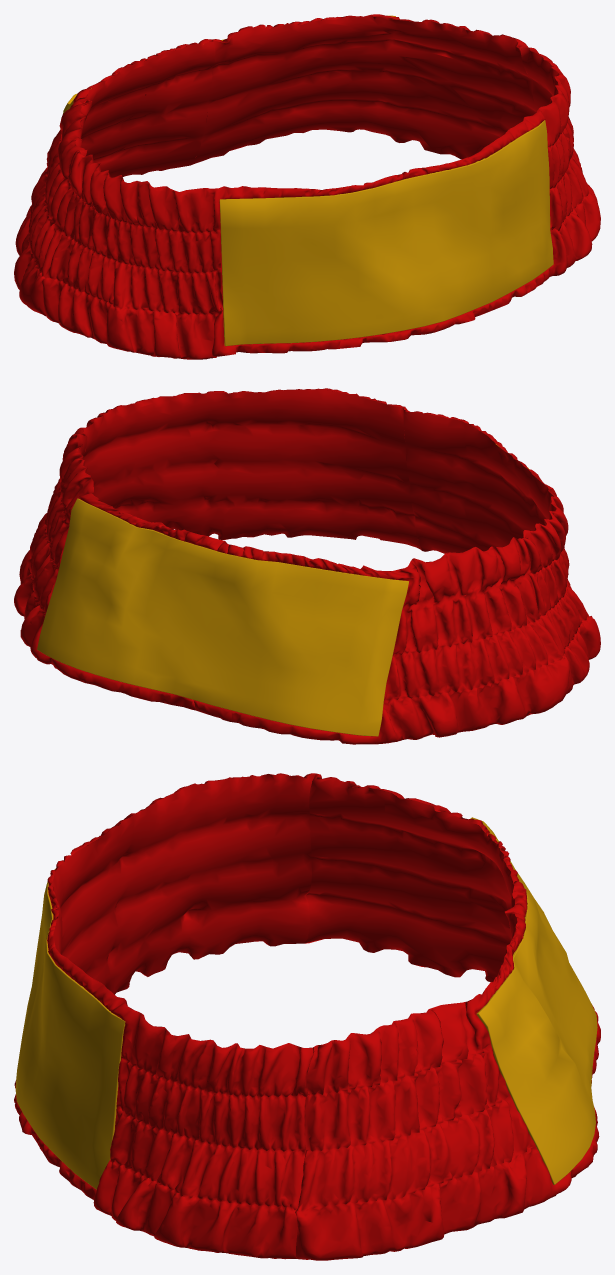
Rendered from BX_0_WAIST_4_inch.glb.
3 views of the same model, one above another, from view 1: azimuth 30°, elevation 25°; view 2: azimuth 150°, elevation 25°; view 3: azimuth 270°, elevation 25° (orthographic). The views are drawn at different scales.
Parts seen in each view (by area): view 1: BX_0_WAIST_4_inch_waist, BX_0_WAIST_4_inch_waist_logo; view 2: BX_0_WAIST_4_inch_waist, BX_0_WAIST_4_inch_waist_logo; view 3: BX_0_WAIST_4_inch_waist, BX_0_WAIST_4_inch_waist_logo.
Part boxes in pixels (x1=…): BX_0_WAIST_4_inch_waist: x1=14, y1=14, x2=600, y2=359; BX_0_WAIST_4_inch_waist_logo: x1=60, y1=15, x2=553, y2=346; BX_0_WAIST_4_inch_waist: x1=14, y1=388, x2=600, y2=744; BX_0_WAIST_4_inch_waist_logo: x1=37, y1=444, x2=528, y2=736; BX_0_WAIST_4_inch_waist: x1=14, y1=773, x2=600, y2=1260; BX_0_WAIST_4_inch_waist_logo: x1=15, y1=817, x2=597, y2=1189.
Bounding box in the file's own units: 3.81 × 1.1 × 2.87.
